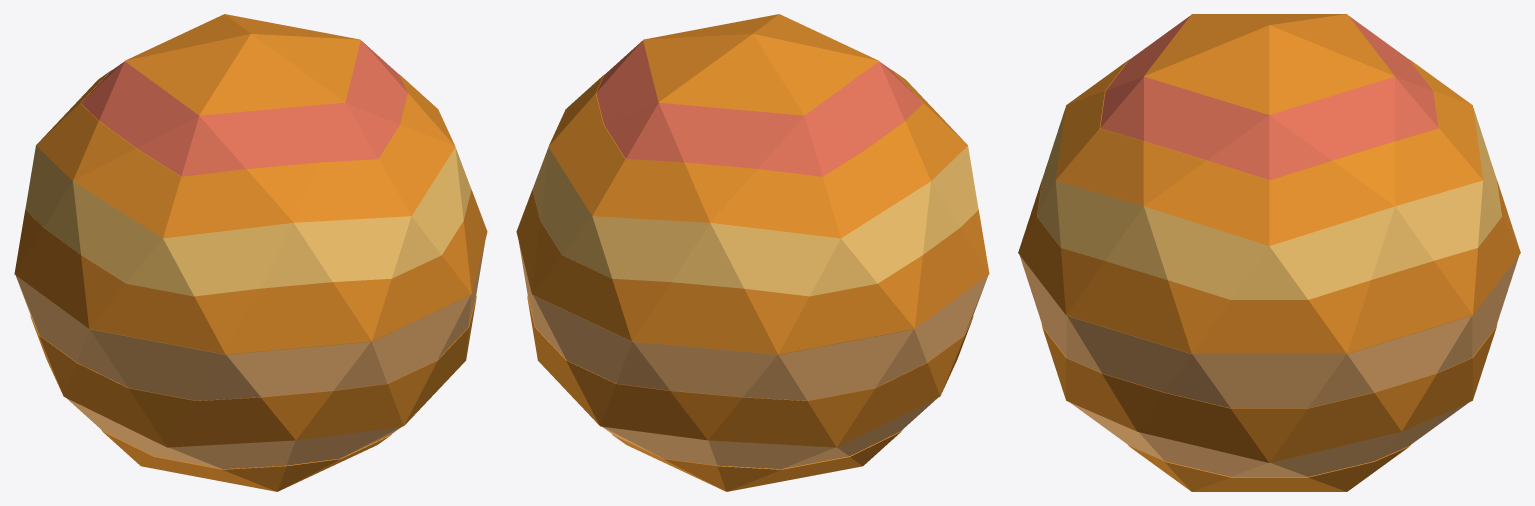
File: Jupiter.fbx
3 views of the same model, side by side, from view 1: azimuth 30°, elevation 25°; view 2: azimuth 150°, elevation 25°; view 3: azimuth 270°, elevation 25° (orthographic). The views are drawn at different scales.
Parts seen in each view (by area): view 1: Jupiter; view 2: Jupiter; view 3: Jupiter.
Part boxes in pixels (bbox=[...]): Jupiter: bbox=[14, 14, 487, 491]; Jupiter: bbox=[516, 14, 989, 491]; Jupiter: bbox=[1018, 14, 1520, 491].
Bounding box in the file's own units: 190 × 200 × 200.
